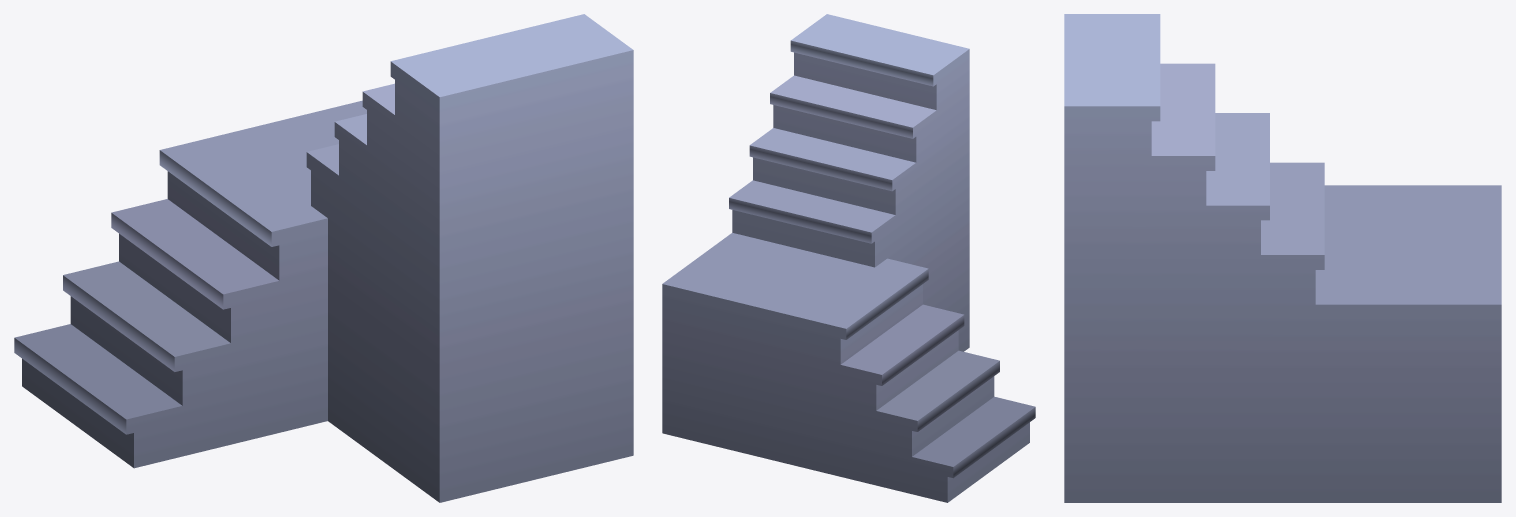
The model's file is stairs-stone-corner.glb.
3 renders of one model, left to right at view 1: azimuth 30°, elevation 25°; view 2: azimuth 150°, elevation 25°; view 3: azimuth 270°, elevation 25°, orthographic. The views are drawn at different scales.
Parts seen in each view (by area): view 1: stairs-stone-corner; view 2: stairs-stone-corner; view 3: stairs-stone-corner.
Part boxes in pixels (left/top/right/bottom): stairs-stone-corner: left=14, top=14, right=633, bottom=502; stairs-stone-corner: left=662, top=14, right=1035, bottom=502; stairs-stone-corner: left=1064, top=14, right=1501, bottom=502.
Bounding box in the file's own units: 1.02 × 1 × 1.
Materials: 1 (1 with a texture image).
